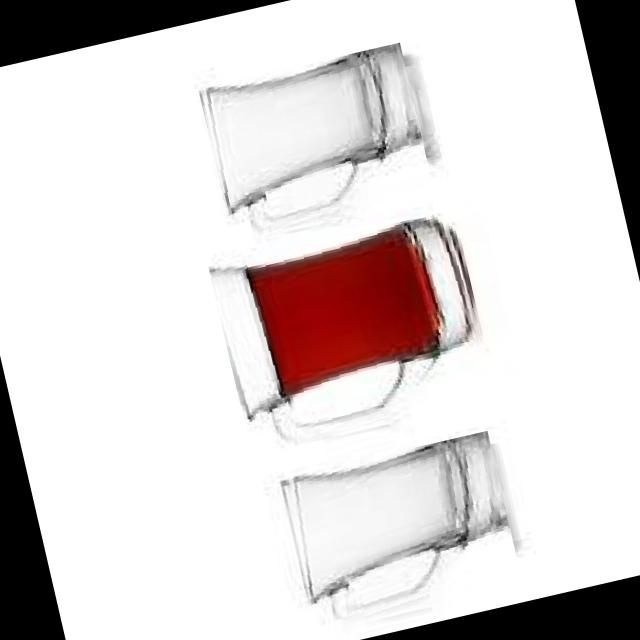Glass: (208, 208, 500, 456), (275, 428, 525, 640), (193, 42, 436, 248)
